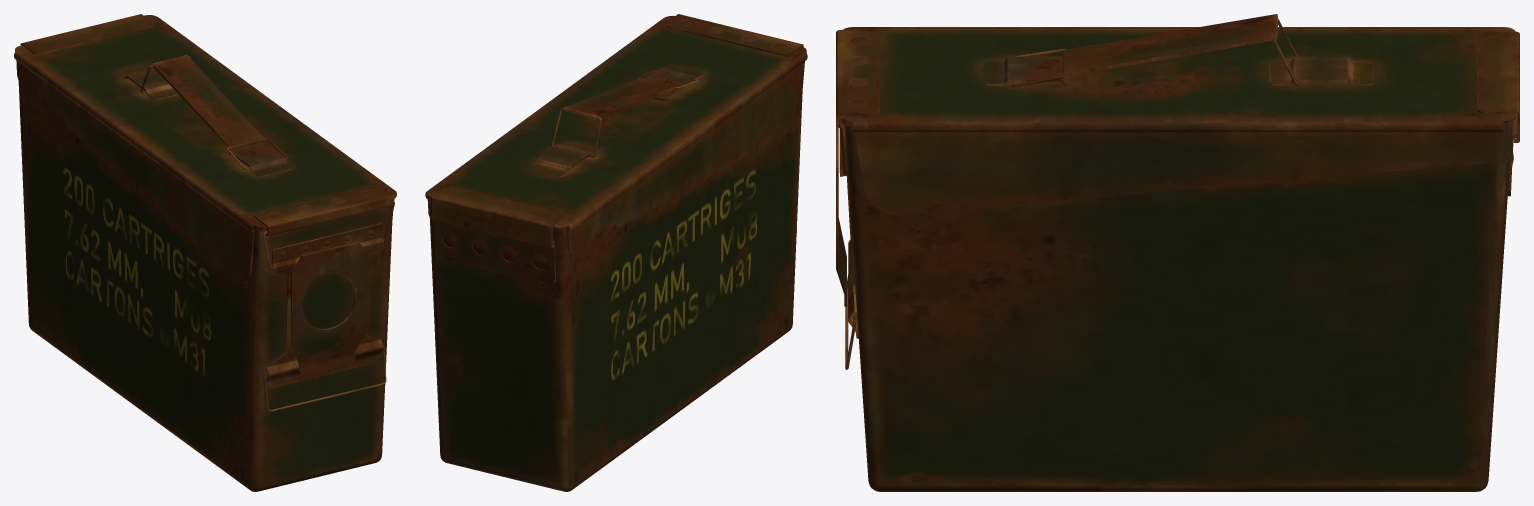
The model's file is ammo_box.glb.
3 views of the same model, side by side, from view 1: azimuth 30°, elevation 25°; view 2: azimuth 150°, elevation 25°; view 3: azimuth 270°, elevation 25° (orthographic). The views are drawn at different scales.
Parts seen in each view (by area): view 1: ammo_box, ammo_box_handle, ammo_box_latch; view 2: ammo_box, ammo_box_handle; view 3: ammo_box, ammo_box_handle.
Boxes of the visible parts, x1,y1,x2,y2 form: ammo_box: (14,14,396,491); ammo_box_handle: (152,54,265,149); ammo_box_latch: (263,345,386,411); ammo_box: (425,14,807,491); ammo_box_handle: (563,78,675,119); ammo_box: (836,27,1519,491); ammo_box_handle: (1062,14,1277,76).
Bounding box in the file's own units: 0.0866 × 0.1775 × 0.2579.
1 material, 1 textured.
